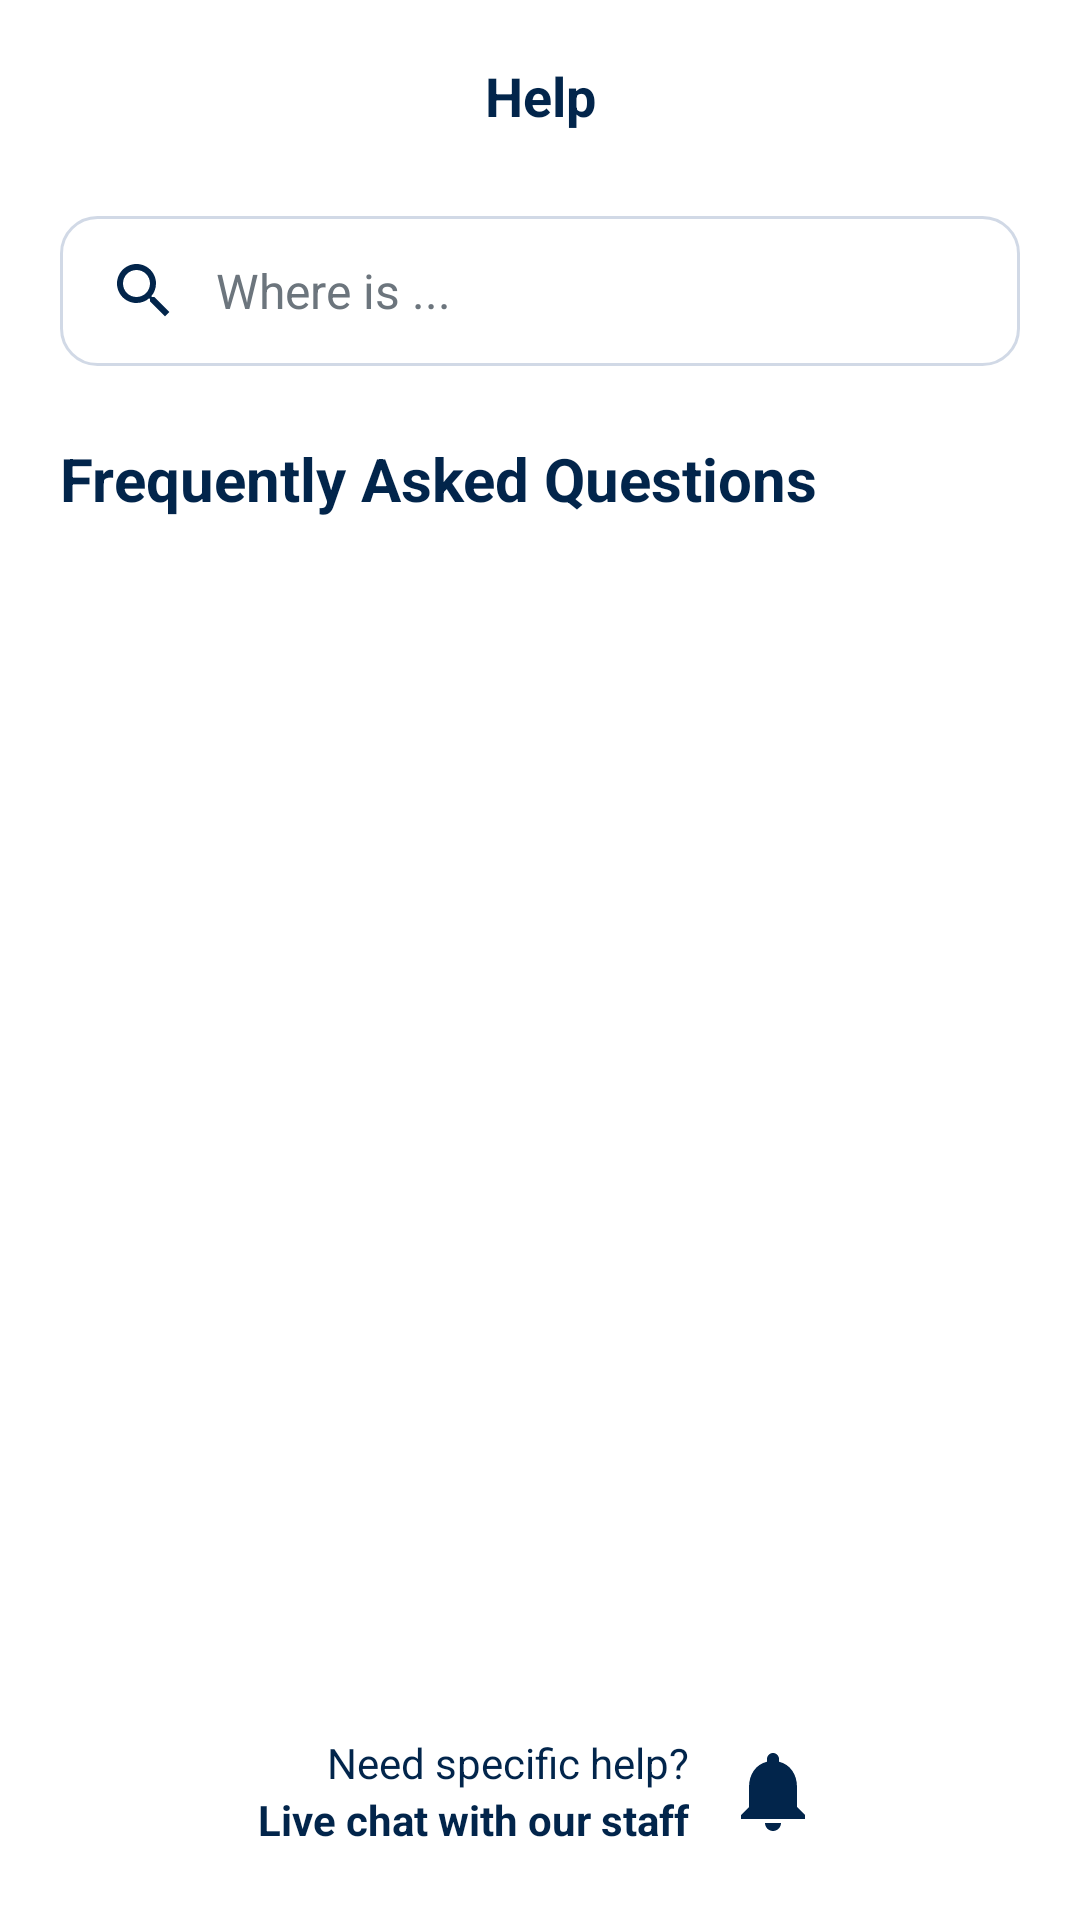

Where icons sit on this 1080 x 1920 app screen, as (left=x1, top=y1, right=x2, bottom=y2):
notification: (left=741, top=1753, right=805, bottom=1831)
search: (left=117, top=264, right=169, bottom=316)
